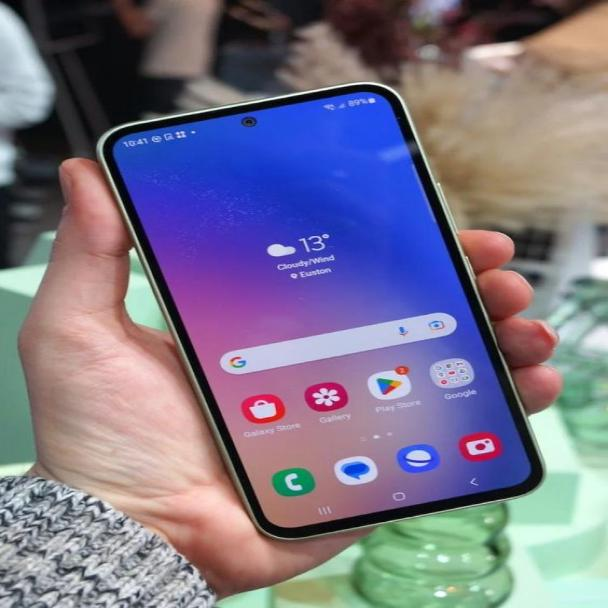Handphone: (91, 75, 554, 543)
